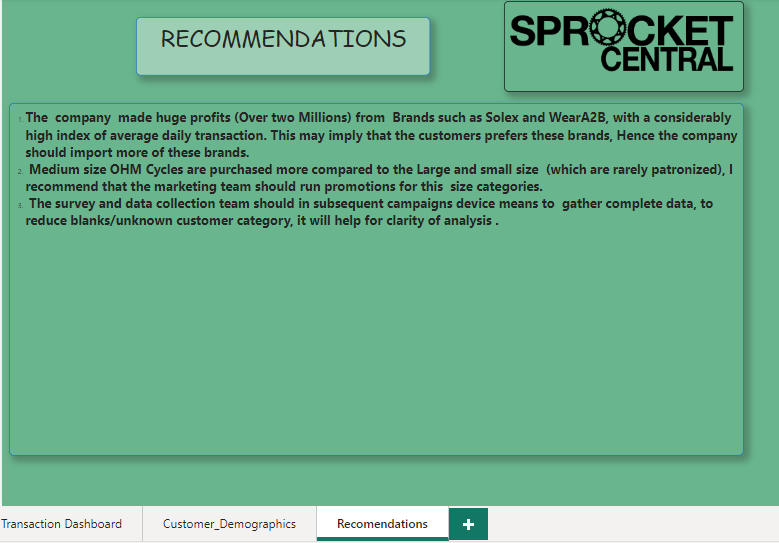

What the dashboard file says about the page in this screenshot:
{"tool":"powerbi","page":{"name":"Recomendations","canvas":[1280,834],"ordinal":2},"visuals":[{"type":"textbox","box":[11.7,172.8,1206.2,578.8],"z":0},{"type":"textbox","box":[219.8,31.9,483.1,95.6],"z":1000},{"type":"image","box":[823.7,5,394.2,149.3],"z":2000}]}

Visuals, with their boxes on the page's 1280x834 design canvas (x1, y1, x2, y2). These are canvas units, not pixel positions in the 779x543 screenshot, which may show the page scaled, cropped or inside an application window:
textbox: (12, 173, 1218, 752)
textbox: (220, 32, 703, 128)
image: (824, 5, 1218, 154)
